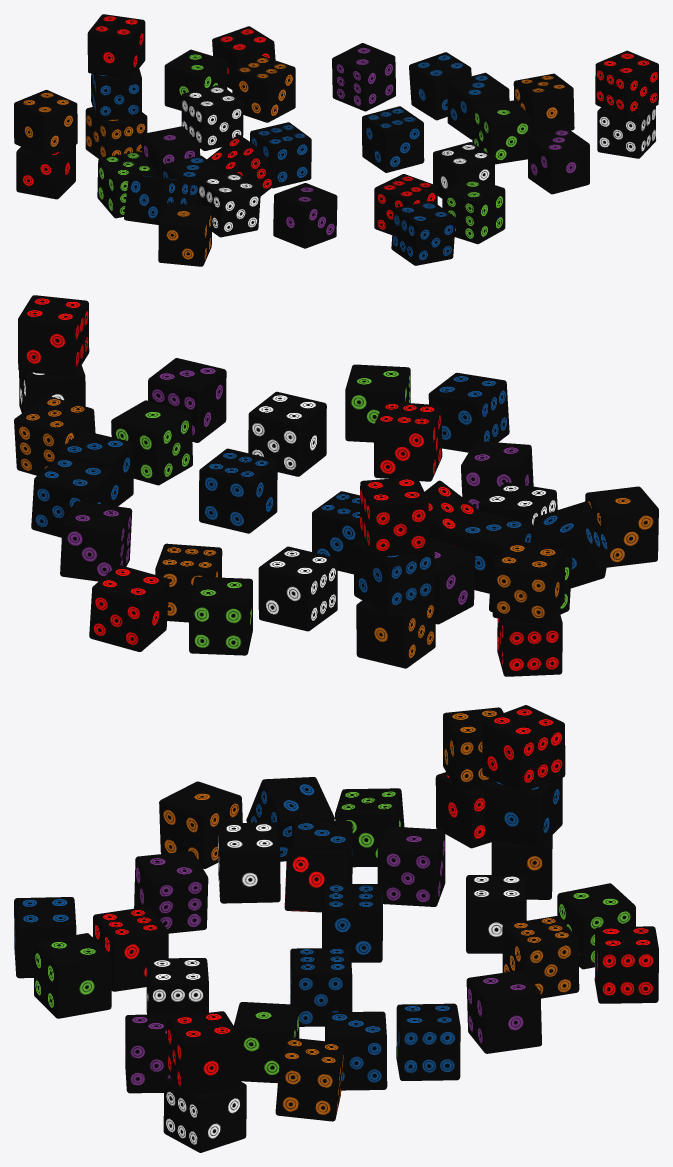
3 renders of one model, top to bottom at view 1: azimuth 30°, elevation 25°; view 2: azimuth 150°, elevation 25°; view 3: azimuth 270°, elevation 25°, orthographic. The views are drawn at different scales.
Parts seen in each view (by area): view 1: polySurface77; view 2: polySurface77; view 3: polySurface77.
Part boxes in pixels (<box>): polySurface77: <box>14,14,658,266</box>; polySurface77: <box>14,295,658,676</box>; polySurface77: <box>14,705,658,1152</box>.
Bounding box in the file's own units: 44.69 × 10.27 × 35.89.
8 materials, 8 textured.
